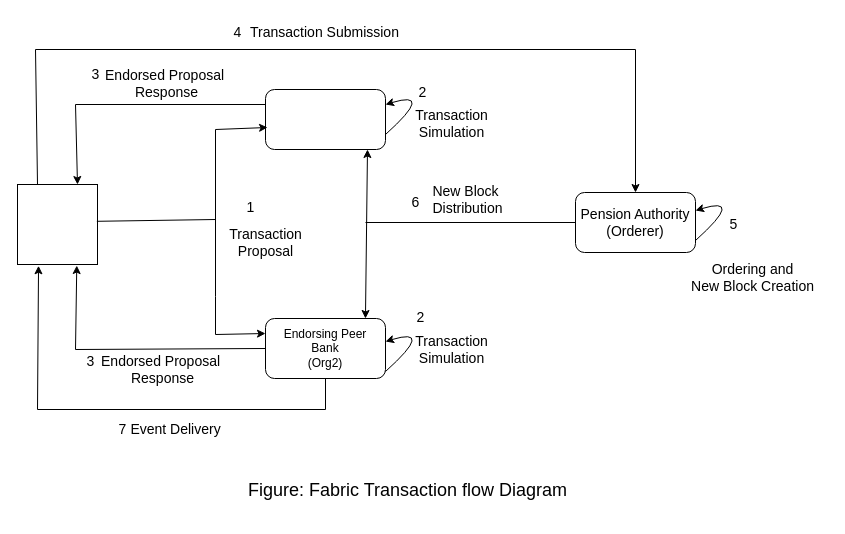
Some shapes in this 845 by 534 pixel diagram are drawn without their labels. The shapes that lost their labels are listed below. From the top down, each one's box as (x1, y1, x2, y2) in pixels, then its label:
(264, 88, 386, 150): Endorsing Peer Ministry of Education (Org1)
(16, 184, 98, 264): Client
